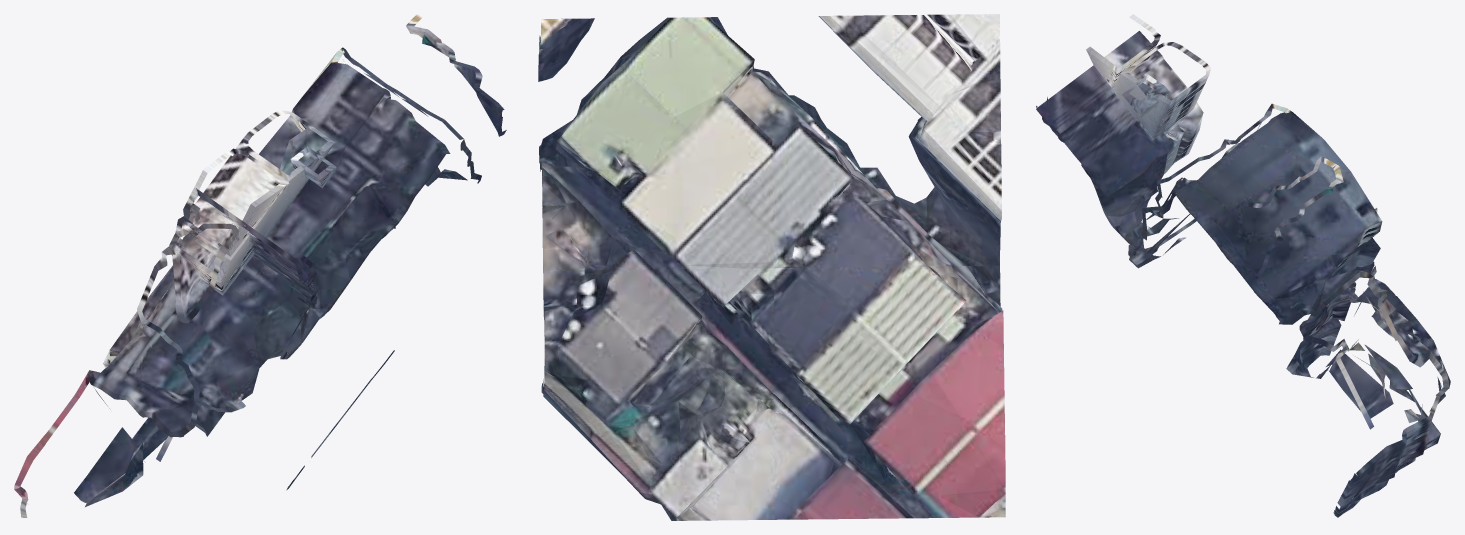
3 renders of one model, left to right at view 1: azimuth 30°, elevation 25°; view 2: azimuth 150°, elevation 25°; view 3: azimuth 270°, elevation 25°, orthographic. The views are drawn at different scales.
Bounding box in the file's own units: 43.19 × 39.97 × 35.83.
2 materials, 2 textured.
